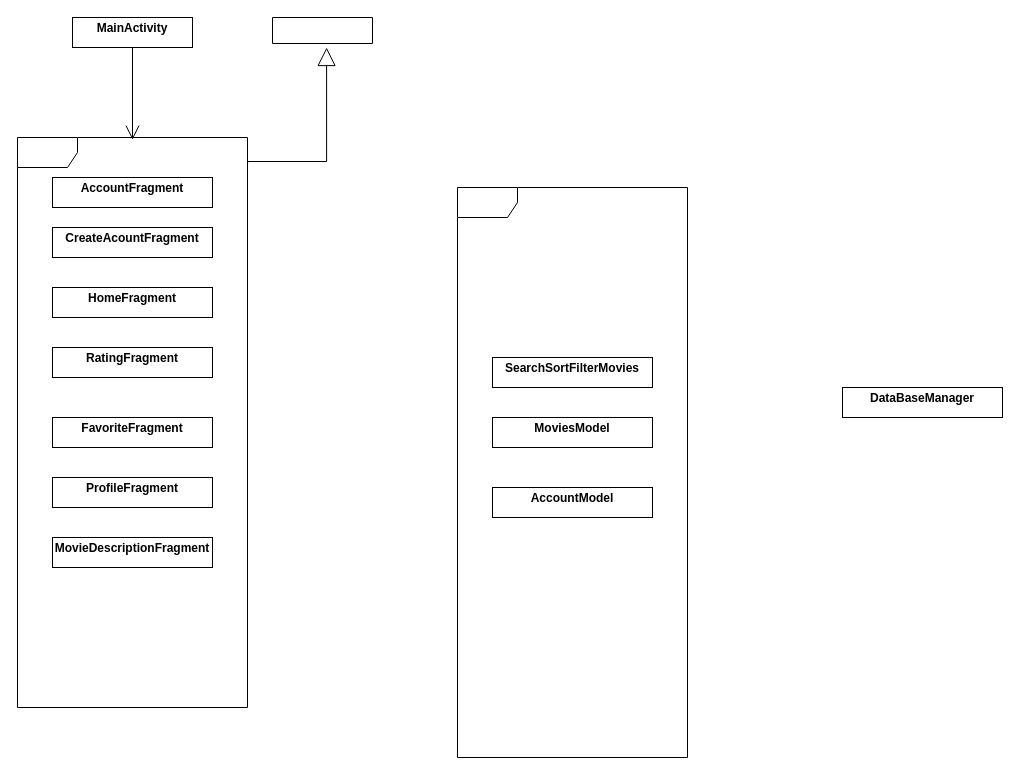
The diagram is 1020 pixels wide and 775 high, and some of its shapes have lost their labels. The box of each missing label's shape, as (x1, y1, x2, y2) in pixels:
Fragment: (272, 16, 372, 44)
fragments: (16, 136, 248, 708)
Model: (456, 186, 688, 758)
